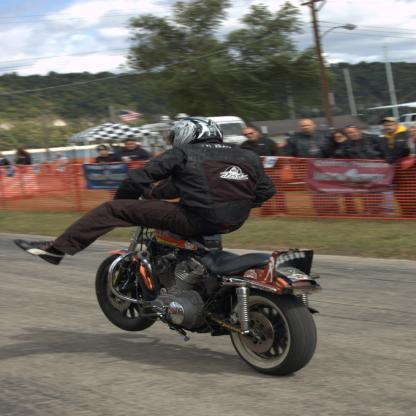Helmet: (169, 117, 229, 147)
